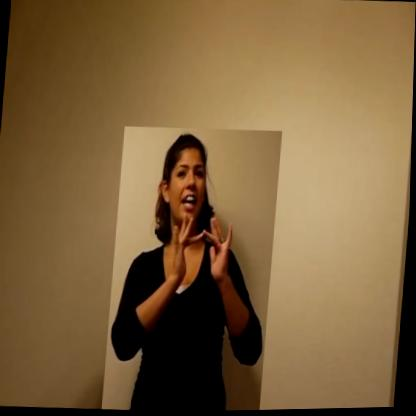Internet: (103, 123, 283, 414)
